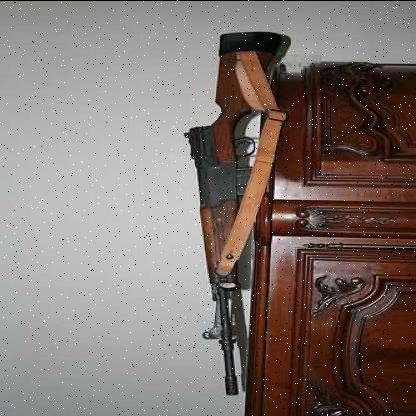rifle: (171, 12, 315, 402)
